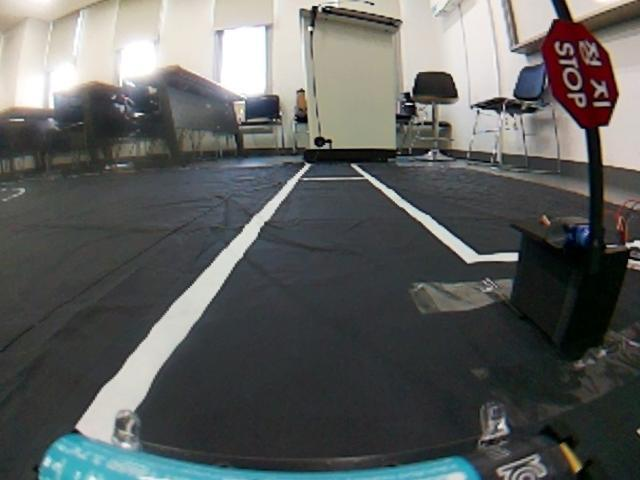sign_stop: (545, 18, 618, 125)
straight: (5, 166, 635, 480)
